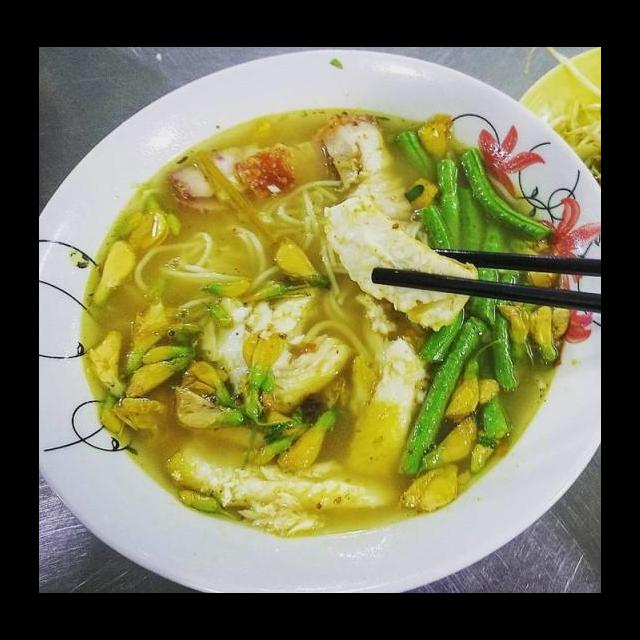bun: (115, 176, 321, 318)
bun ca: (58, 95, 562, 570)
ca: (317, 180, 484, 333), (159, 436, 407, 526), (328, 325, 453, 485)
thit heo quay: (311, 109, 422, 224), (164, 138, 283, 220), (226, 127, 336, 208)
